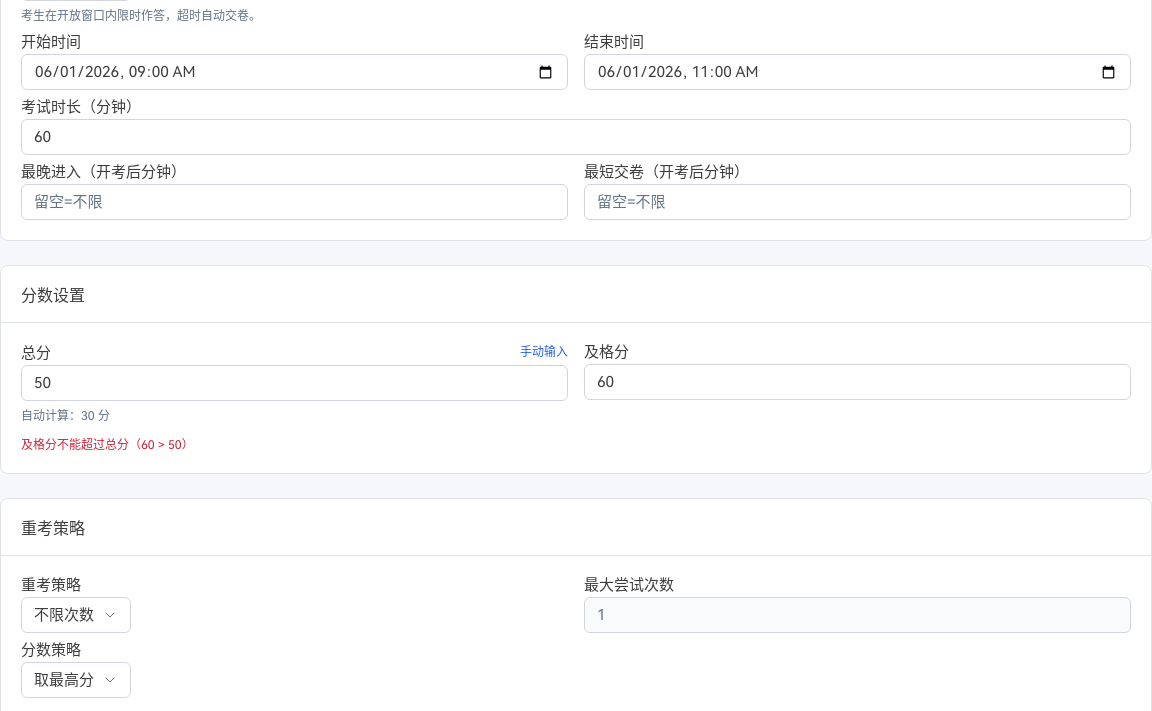
ExamConfigForm totalScore › shows warning in manual mode when totalScore does not match question score sum
(page scrolled)
Click the button "手动输入".
click(544, 351)  # box 520,343 -> 568,359
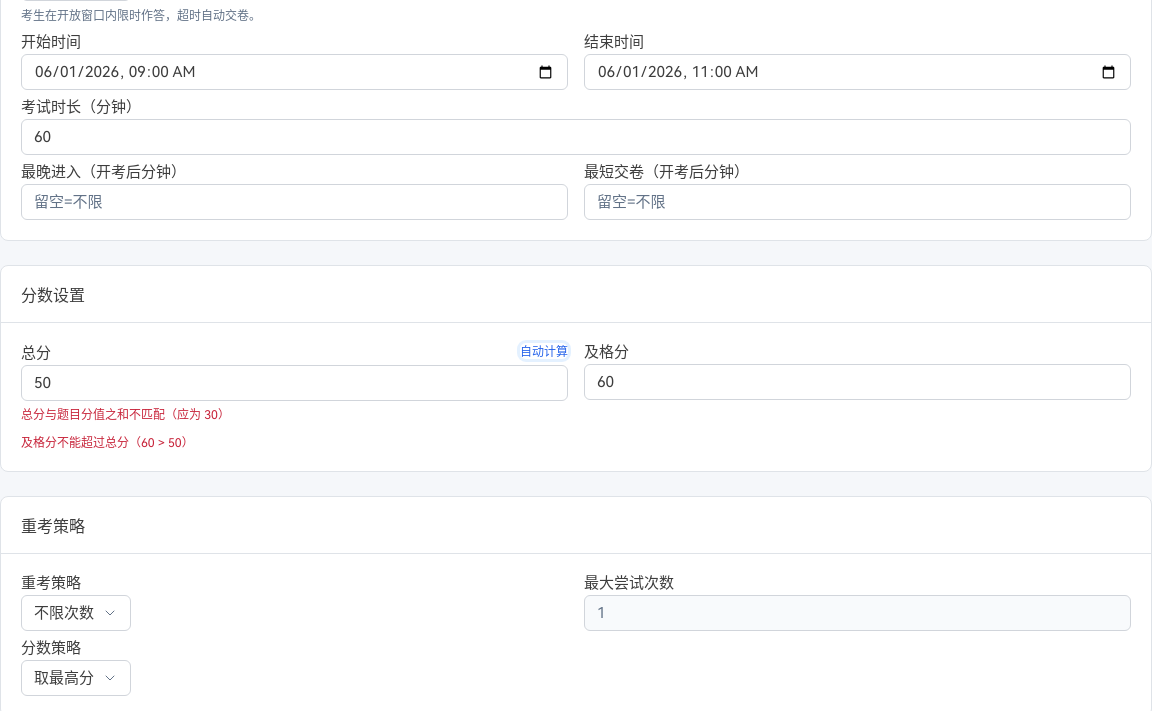
Check: the text "总分与题目分值之和不匹配（应为 30）" is shown, box 21,408 -> 230,422
